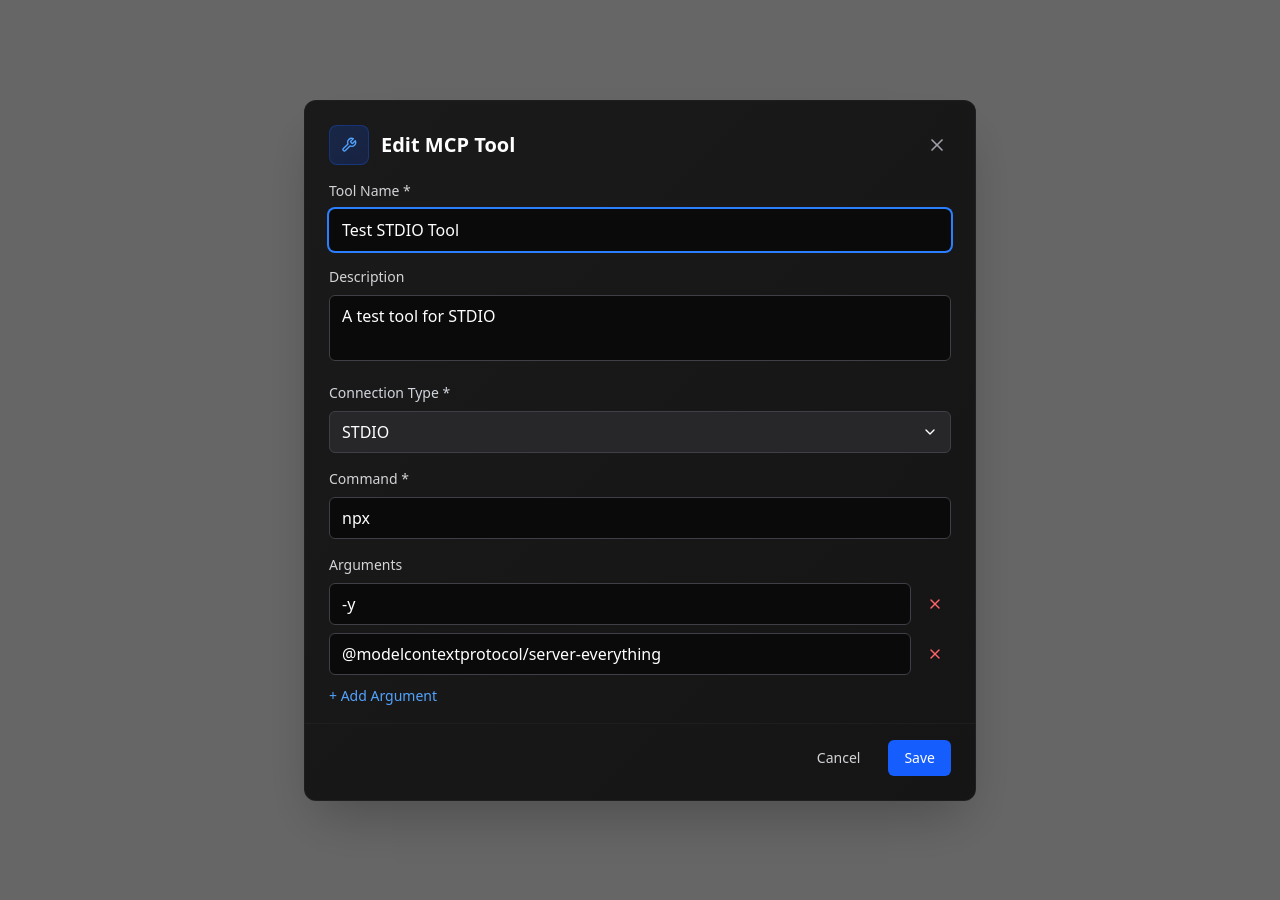
Scenario: McpEditDialog › allows adding and removing arguments for STDIO
The image size is (1280, 900).
Click the button "+ Add Argument".
click(383, 696)  # box [329,686,437,706]
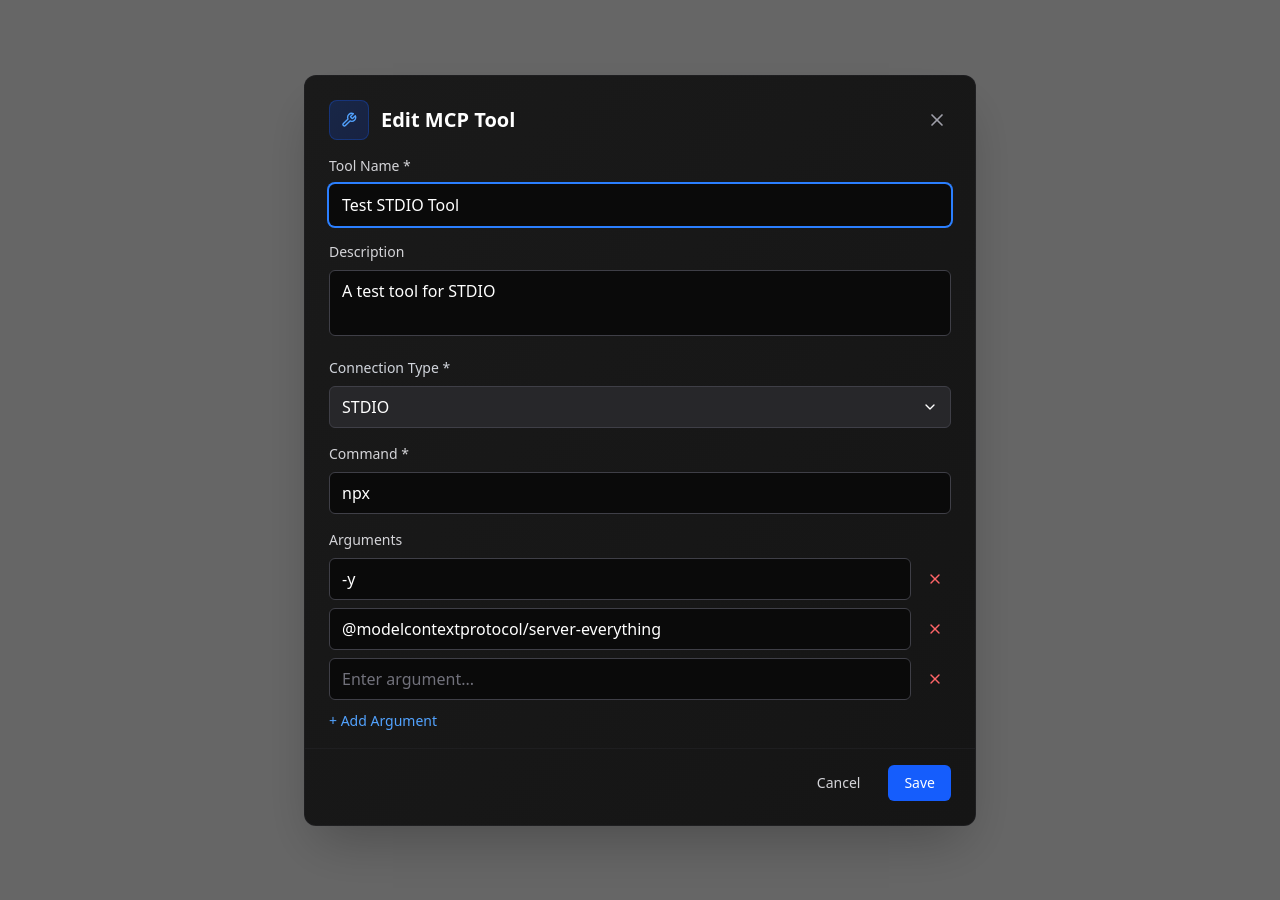
Now the number of fields with placeholder "Enter argument..." is 3, box [329,558,911,600]; [329,608,911,650]; [329,658,911,700]
Click the 1st button named "Remove argument".
click(935, 578)  # box [919,562,951,594]
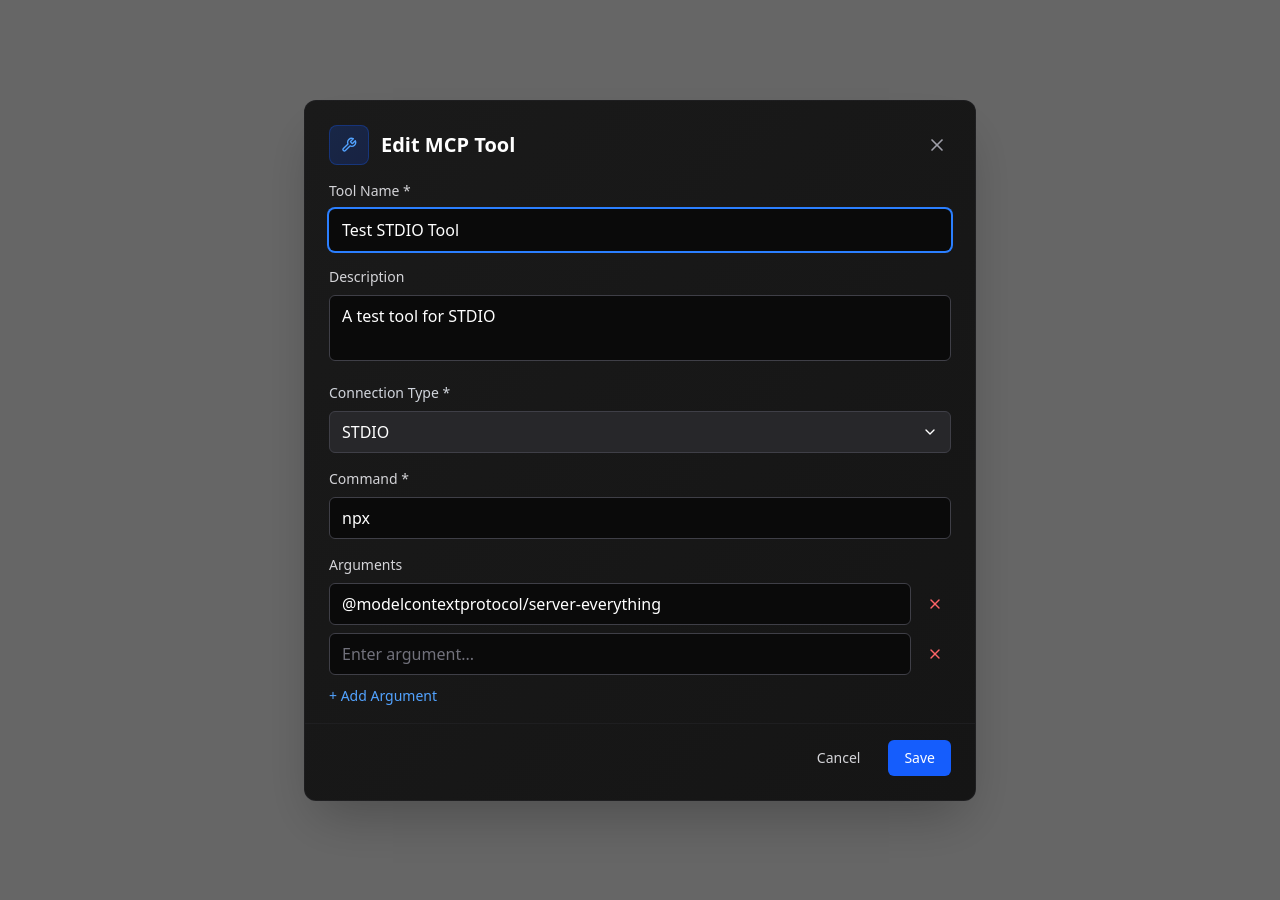
Now the number of fields with placeholder "Enter argument..." is 2, box [329,582,911,624]; [329,632,911,674]
